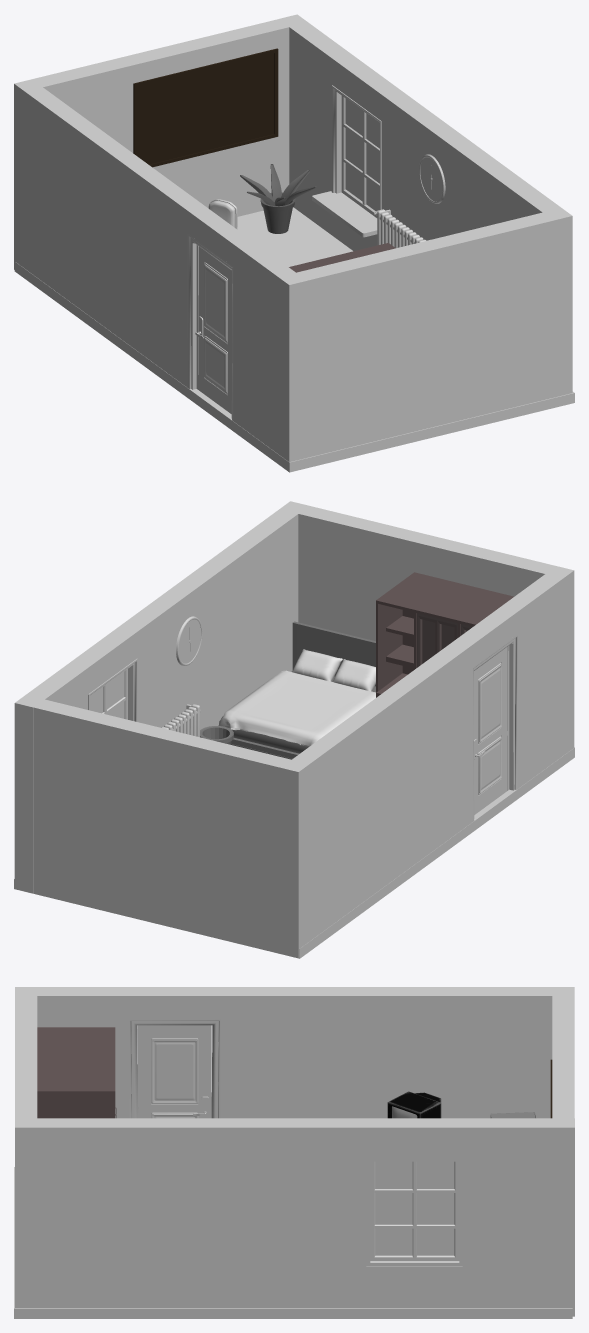
File: Room 16.fbx
3 views of the same model, one above another, from view 1: azimuth 30°, elevation 25°; view 2: azimuth 150°, elevation 25°; view 3: azimuth 270°, elevation 25° (orthographic).
Parts seen in each view (by area): view 1: Box016, Box015, Box014, Box017, Plane.001, Box013, Door006, Window Frame001, Glass001, Door Frame004, Window001, pCube011 (+4 smaller); view 2: Box016, Box017, Box014, Box015, Wardrobe001, outputCloth014, Door006, Box013, Bed_Frame001, Door Frame004, outputCloth013, Cylinder008 (+6 smaller); view 3: Box014, Box016, Wardrobe001, Door006, Glass001, Box013, Window001, Box015, Box017, Door Frame004, Window Frame001, Box002.003.
Boxes of the visible parts, bbox=[...] form: Box016: bbox=[14, 79, 307, 462]; Box015: bbox=[287, 210, 562, 457]; Box014: bbox=[278, 14, 572, 395]; Box017: bbox=[25, 18, 294, 216]; Plane.001: bbox=[133, 48, 278, 167]; Box013: bbox=[14, 207, 574, 472]; Door006: bbox=[198, 246, 231, 413]; Window Frame001: bbox=[312, 85, 381, 237]; Glass001: bbox=[345, 98, 379, 211]; Door Frame004: bbox=[187, 233, 233, 421]; Window001: bbox=[341, 96, 379, 217]; pCube011: bbox=[240, 164, 315, 206]; Box016: bbox=[280, 566, 574, 958]; Box017: bbox=[25, 697, 291, 953]; Box014: bbox=[14, 501, 308, 893]; Box015: bbox=[290, 504, 562, 641]; Wardrobe001: bbox=[376, 572, 513, 697]; outputCloth014: bbox=[218, 670, 375, 747]; Door006: bbox=[474, 647, 507, 814]; Box013: bbox=[14, 747, 574, 958]; Bed_Frame001: bbox=[231, 621, 375, 758]; Door Frame004: bbox=[472, 634, 518, 821]; outputCloth013: bbox=[292, 649, 342, 681]; Cylinder008: bbox=[176, 616, 202, 665]; Box014: bbox=[15, 1118, 574, 1316]; Box016: bbox=[15, 987, 574, 1118]; Wardrobe001: bbox=[37, 1027, 115, 1118]; Door006: bbox=[138, 1025, 211, 1118]; Glass001: bbox=[375, 1161, 454, 1255]; Box013: bbox=[14, 1167, 572, 1318]; Window001: bbox=[370, 1159, 459, 1260]; Box015: bbox=[15, 991, 37, 1122]; Box017: bbox=[552, 992, 574, 1122]; Door Frame004: bbox=[128, 1019, 221, 1118]; Window Frame001: bbox=[366, 1155, 462, 1266]; Box002.003: bbox=[387, 1091, 441, 1118].
Size of the model in its own units: 30 by 18.78 by 50.2.
